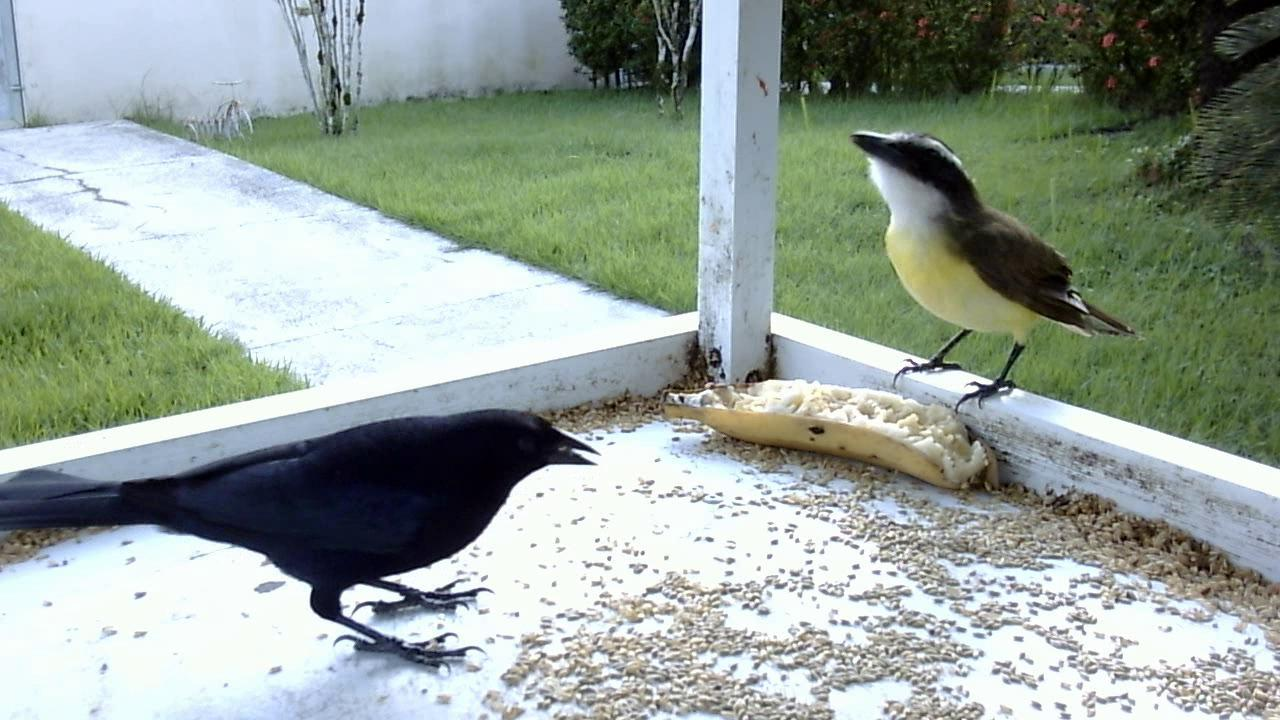bem_te_vi: (832, 115, 1146, 431)
chupim: (1, 397, 605, 683)
